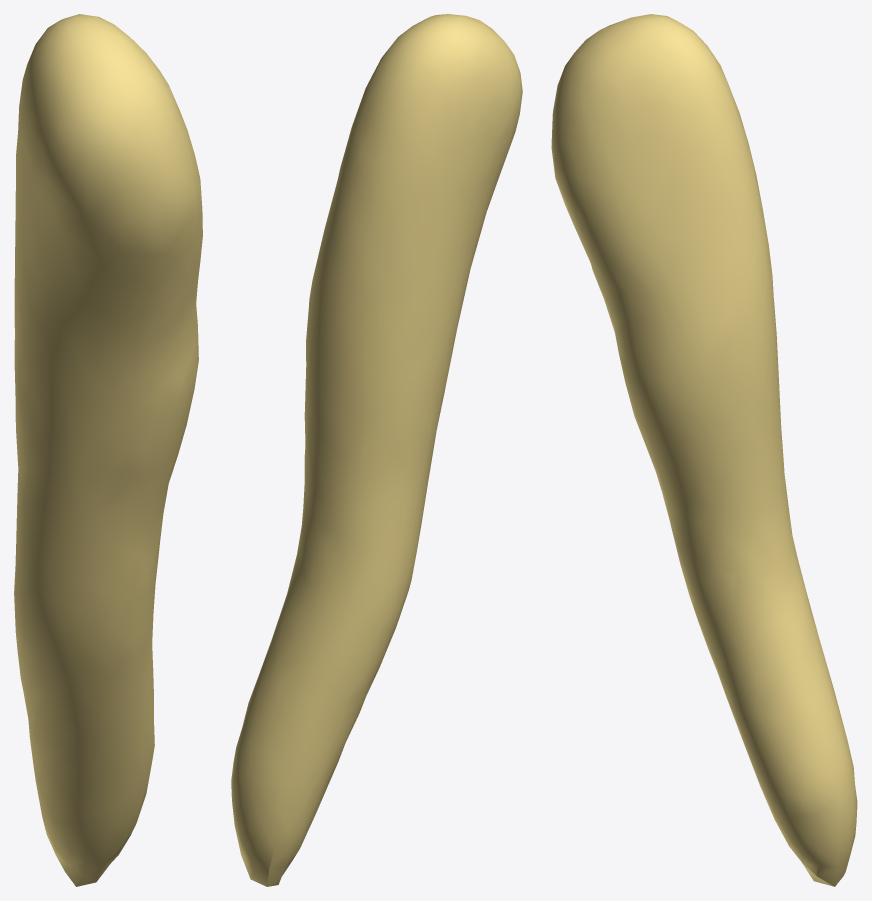
The model's file is fma54508_mm3521m.glb.
3 renders of one model, left to right at view 1: azimuth 30°, elevation 25°; view 2: azimuth 150°, elevation 25°; view 3: azimuth 270°, elevation 25°, orthographic. The views are drawn at different scales.
Visible parts, largest first — view 1: FMA54508_MM3521M; view 2: FMA54508_MM3521M; view 3: FMA54508_MM3521M.
Boxes of the visible parts, left/top/right/bottom form: FMA54508_MM3521M: left=14, top=14, right=202, bottom=886; FMA54508_MM3521M: left=231, top=14, right=522, bottom=886; FMA54508_MM3521M: left=551, top=14, right=857, bottom=886.
Size of the model in its own units: 0.00281 by 0.0122 by 0.00411.
